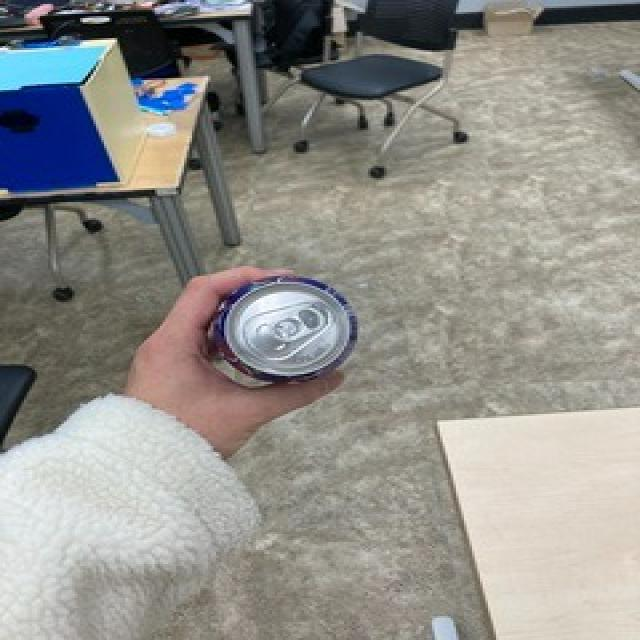can: (210, 269, 362, 393)
